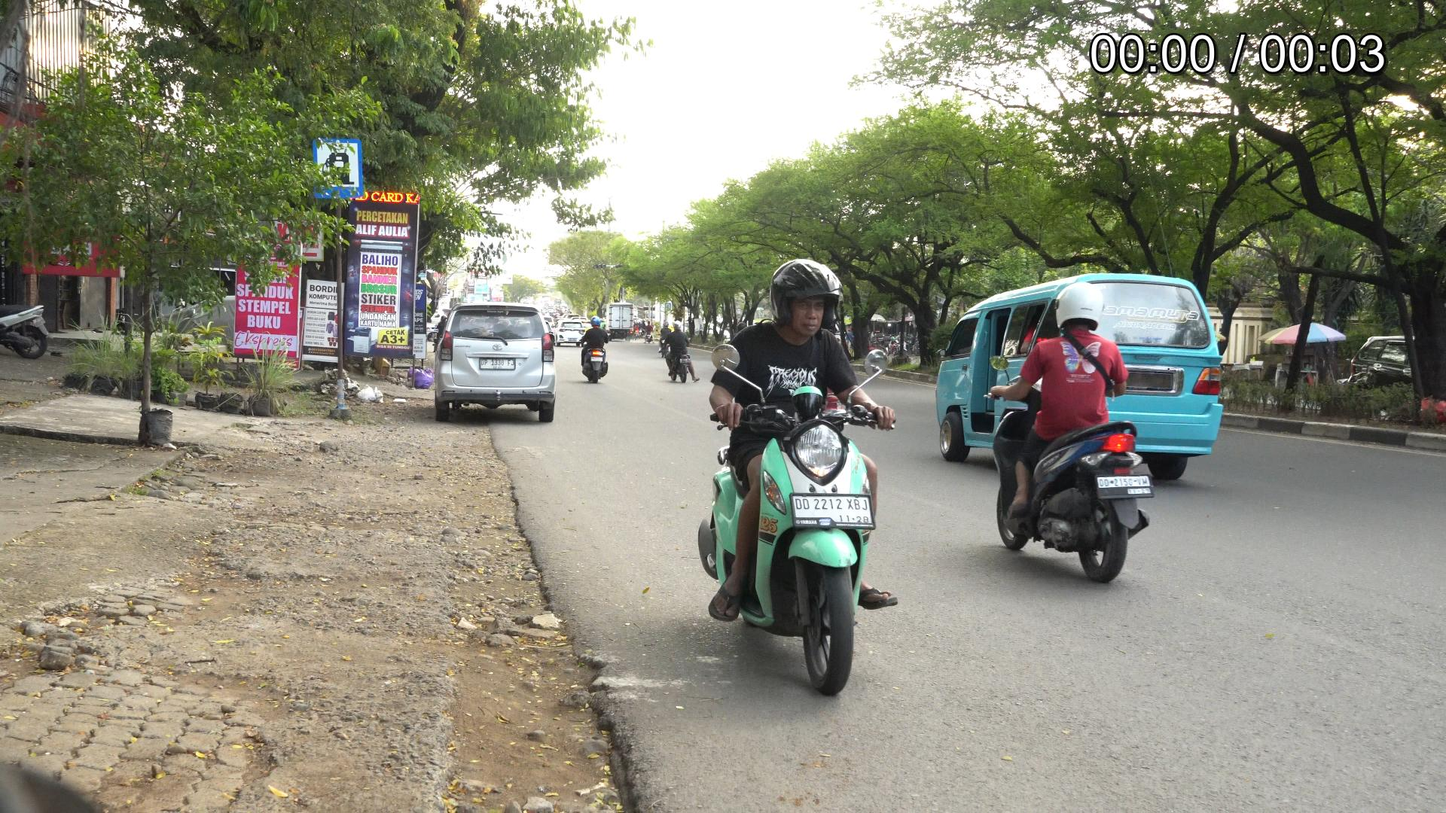number-plate: (788, 488, 877, 526)
